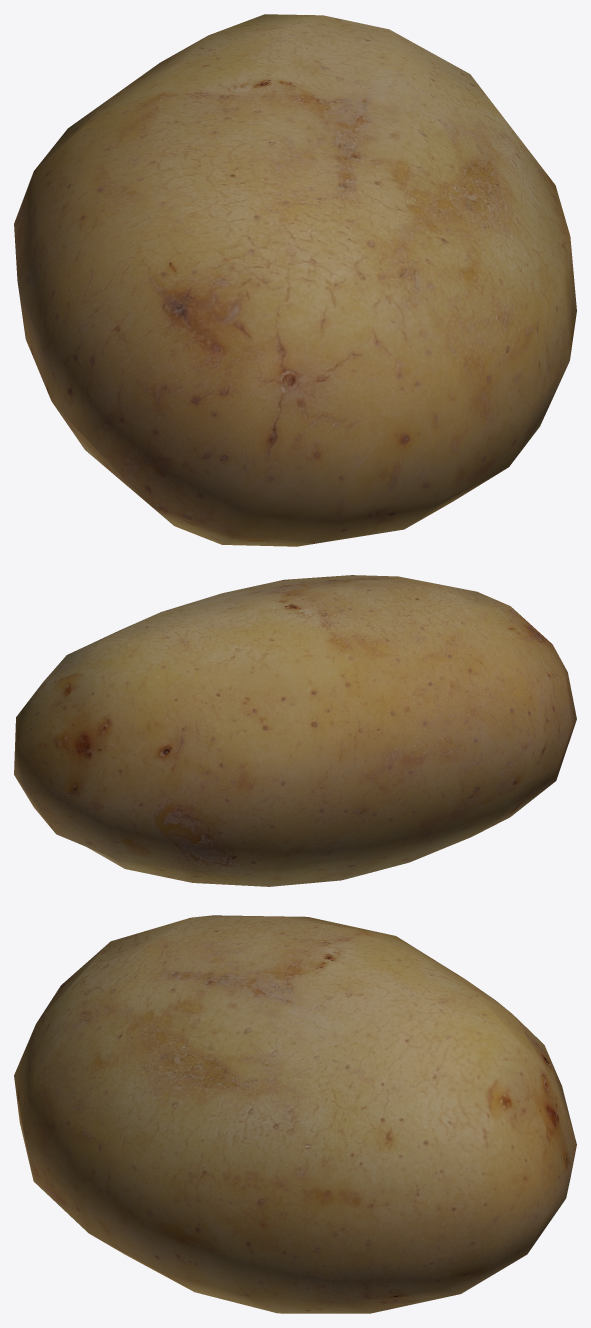
The model's file is A144_Potato_low.fbx.
3 views of the same model, one above another, from view 1: azimuth 30°, elevation 25°; view 2: azimuth 150°, elevation 25°; view 3: azimuth 270°, elevation 25° (orthographic). The views are drawn at different scales.
Parts seen in each view (by area): view 1: A144_Potato_low; view 2: A144_Potato_low; view 3: A144_Potato_low.
Boxes of the visible parts, x1,y1,x2,y2 form: A144_Potato_low: [14, 14, 576, 546]; A144_Potato_low: [14, 575, 576, 886]; A144_Potato_low: [14, 915, 576, 1313].
Size of the model in its own units: 8.18 by 8.63 by 5.16.
Materials: 1 (1 with a texture image).
